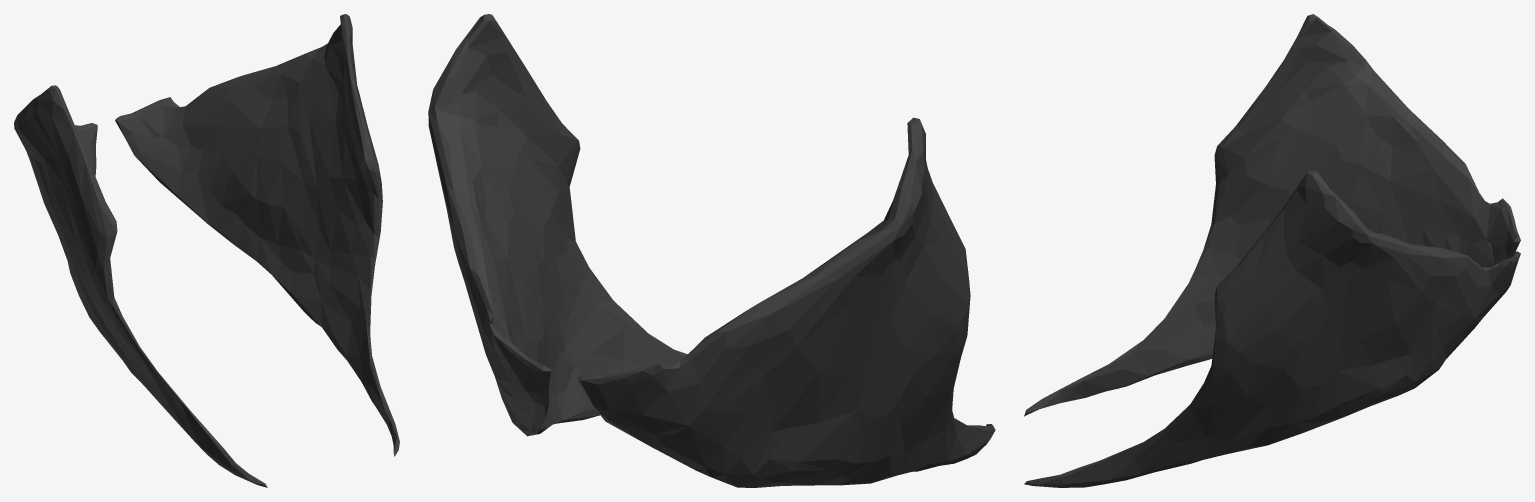
Rendered from m_internal_abdominal_oblique.glb.
The picture shows the model from 3 angles, left to right: view 1: azimuth 30°, elevation 25°; view 2: azimuth 150°, elevation 25°; view 3: azimuth 270°, elevation 25°; orthographic projection. The views are drawn at different scales.
Parts seen in each view (by area): view 1: m_internal_abdominal_oblique; view 2: m_internal_abdominal_oblique; view 3: m_internal_abdominal_oblique.
Boxes of the visible parts, <box> form: m_internal_abdominal_oblique: <box>14,14,399,487</box>; m_internal_abdominal_oblique: <box>428,14,995,487</box>; m_internal_abdominal_oblique: <box>1024,14,1520,487</box>.
Size of the model in its own units: 0.00777 by 0.0074 by 0.00932.
Materials: 1 (1 with a texture image).
